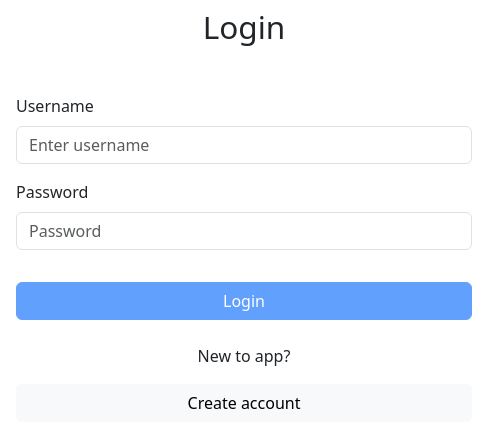
Test: Login component › disables login button when username or password is missing
Check: the button "Login" is disabled, box [16,282,472,320]
In the field with placeholder "Enter username": (244, 145) [16,126,472,164], type "testuser"
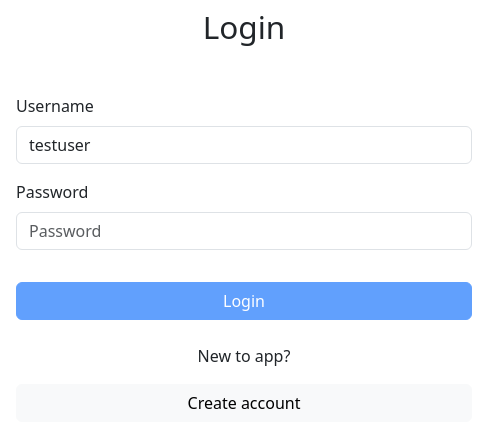
In the password field with placeholder "Password": (244, 231) [16,212,472,250], type "testpass"
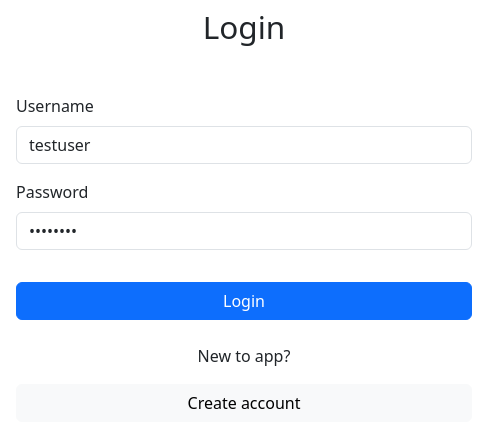
Check: the button "Login" is enabled, box [16,282,472,320]
